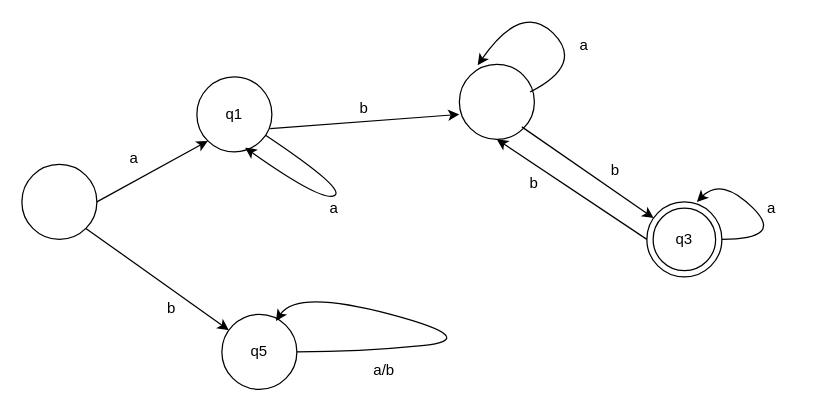
This 831x411 diagram has some shape labels left out. The shapes that lost their labels are listed below. From the top down, each one's box as (x1, y1, x2, y2) in pixels, then its label:
(458, 63, 534, 139): q4
(21, 163, 97, 239): q0
